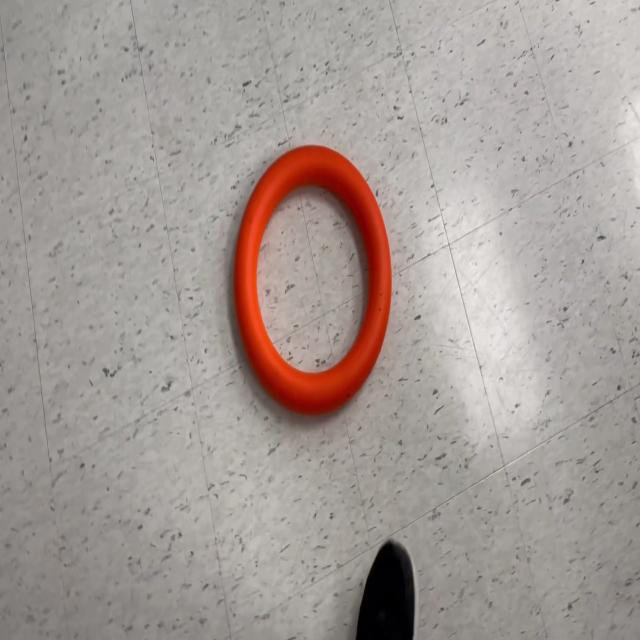note: (230, 141, 393, 419)
